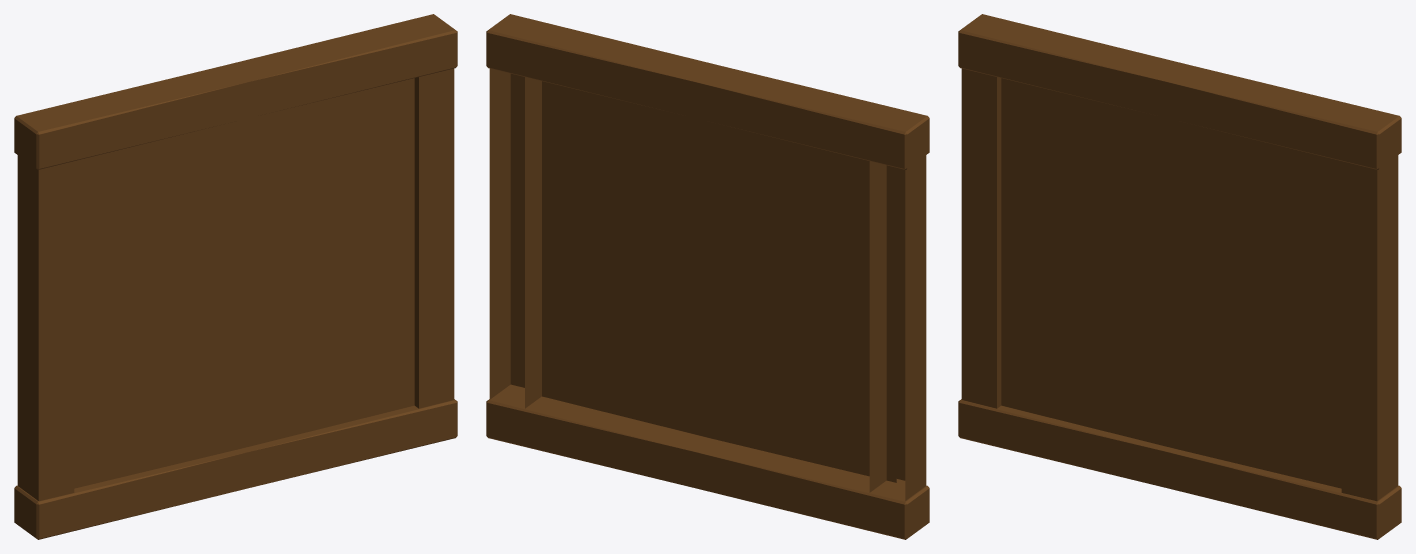
The model's file is ParedSimple.fbx.
3 views of the same model, side by side, from view 1: azimuth 30°, elevation 25°; view 2: azimuth 150°, elevation 25°; view 3: azimuth 330°, elevation 25° (orthographic).
Parts seen in each view (by area): view 1: polySurface1852; view 2: polySurface1852; view 3: polySurface1852.
Boxes of the visible parts, x1,y1,x2,y2 form: polySurface1852: (14,14,457,539); polySurface1852: (486,14,929,539); polySurface1852: (958,14,1401,539).
Bounding box in the file's own units: 1.15 × 1.07 × 0.1151.
